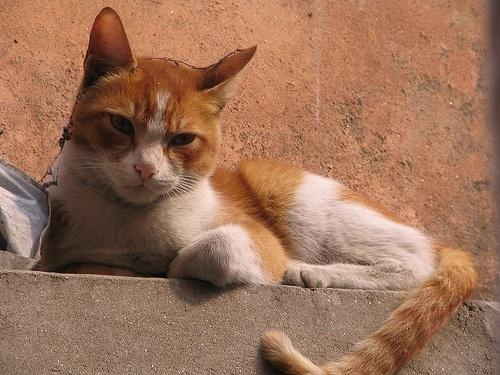cat: (39, 8, 474, 375)
